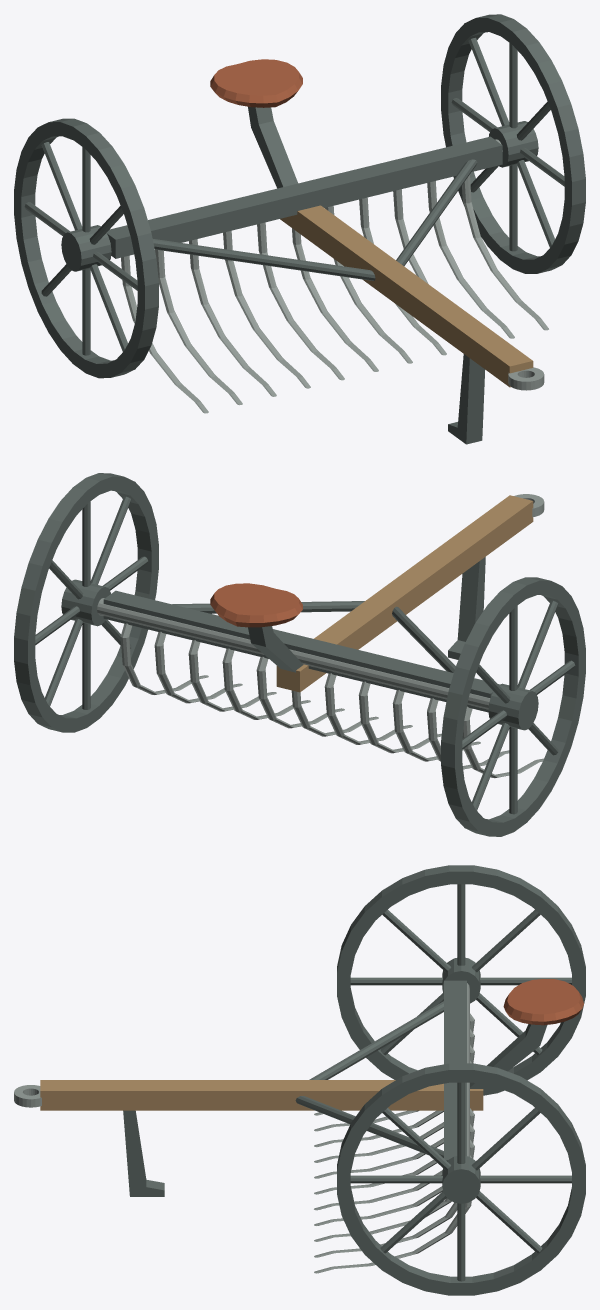
The picture shows the model from 3 angles, top to bottom: view 1: azimuth 30°, elevation 25°; view 2: azimuth 150°, elevation 25°; view 3: azimuth 270°, elevation 25°; orthographic projection. The views are drawn at different scales.
Parts seen in each view (by area): view 1: WholeHighOpenFiniteSoleWheelRim0, WholeWideTransverseCurvedToothBeam, WholeHighOpenFiniteSoleWheelRim1, WholeLongForwardTimberDrawBeam, WholeShallowCurvedPanSeat, WholeDiagonalWideAxleToTongueBrace0, WholeForwardRestingPropAndFoot, WholeRearwardCurvedSeatSupport, WholeLongWheelHub0, WholeDiagonalWideAxleToTongueBrace1, WholeLongSweptForwardBluntRakeTooth1, WholeLongSweptForwardBluntRakeTooth10 (+19 smaller); view 2: WholeHighOpenFiniteSoleWheelRim0, WholeHighOpenFiniteSoleWheelRim1, WholeLongForwardTimberDrawBeam, WholeWideTransverseCurvedToothBeam, WholeContinuousHighWheelAxle, WholeShallowCurvedPanSeat, WholeForwardRestingPropAndFoot, WholeLongWheelHub0, WholeLongWheelHub1, WholeRearwardCurvedSeatSupport, WholeDiagonalWideAxleToTongueBrace0, WholeDiagonalWideAxleToTongueBrace1 (+21 smaller); view 3: WholeHighOpenFiniteSoleWheelRim1, WholeLongForwardTimberDrawBeam, WholeHighOpenFiniteSoleWheelRim0, WholeWideTransverseCurvedToothBeam, WholeShallowCurvedPanSeat, WholeForwardRestingPropAndFoot, WholeDiagonalWideAxleToTongueBrace0, WholeLongWheelHub1, WholeRearwardCurvedSeatSupport, WholeDiagonalWideAxleToTongueBrace1, WholeLongWheelHub0, WholeStraightWheelSpoke0_4 (+16 smaller).
Boxes of the visible parts, x1=… form: WholeHighOpenFiniteSoleWheelRim0: x1=14, y1=118, x2=158, y2=378; WholeWideTransverseCurvedToothBeam: x1=106, y1=136, x2=502, y2=258; WholeHighOpenFiniteSoleWheelRim1: x1=441, y1=14, x2=585, y2=273; WholeLongForwardTimberDrawBeam: x1=280, y1=205, x2=533, y2=387; WholeShallowCurvedPanSeat: x1=210, y1=59, x2=302, y2=107; WholeDiagonalWideAxleToTongueBrace0: x1=152, y1=239, x2=375, y2=280; WholeForwardRestingPropAndFoot: x1=448, y1=354, x2=485, y2=444; WholeRearwardCurvedSeatSupport: x1=248, y1=106, x2=297, y2=188; WholeLongWheelHub0: x1=61, y1=225, x2=111, y2=271; WholeDiagonalWideAxleToTongueBrace1: x1=396, y1=159, x2=477, y2=266; WholeLongSweptForwardBluntRakeTooth1: x1=155, y1=249, x2=242, y2=405; WholeLongSweptForwardBluntRakeTooth10: x1=462, y1=174, x2=548, y2=330; WholeHighOpenFiniteSoleWheelRim0: x1=441, y1=577, x2=585, y2=836; WholeHighOpenFiniteSoleWheelRim1: x1=14, y1=473, x2=158, y2=732; WholeLongForwardTimberDrawBeam: x1=276, y1=495, x2=533, y2=692; WholeWideTransverseCurvedToothBeam: x1=103, y1=590, x2=499, y2=712; WholeContinuousHighWheelAxle: x1=97, y1=598, x2=490, y2=709; WholeShallowCurvedPanSeat: x1=210, y1=583, x2=302, y2=627; WholeForwardRestingPropAndFoot: x1=448, y1=557, x2=485, y2=659; WholeLongWheelHub0: x1=488, y1=683, x2=538, y2=730; WholeLongWheelHub1: x1=61, y1=579, x2=110, y2=626; WholeRearwardCurvedSeatSupport: x1=248, y1=626, x2=303, y2=672; WholeDiagonalWideAxleToTongueBrace0: x1=392, y1=606, x2=455, y2=672; WholeDiagonalWideAxleToTongueBrace1: x1=172, y1=601, x2=364, y2=613; WholeHighOpenFiniteSoleWheelRim1: x1=337, y1=1063, x2=585, y2=1295; WholeLongForwardTimberDrawBeam: x1=40, y1=1080, x2=483, y2=1110; WholeHighOpenFiniteSoleWheelRim0: x1=337, y1=865, x2=585, y2=1095; WholeWideTransverseCurvedToothBeam: x1=444, y1=980, x2=466, y2=1160; WholeShallowCurvedPanSeat: x1=503, y1=979, x2=583, y2=1025; WholeForwardRestingPropAndFoot: x1=123, y1=1110, x2=164, y2=1196; WholeDiagonalWideAxleToTongueBrace0: x1=309, y1=1001, x2=443, y2=1079; WholeLongWheelHub1: x1=442, y1=1156, x2=480, y2=1203; WholeRearwardCurvedSeatSupport: x1=470, y1=1024, x2=547, y2=1090; WholeDiagonalWideAxleToTongueBrace1: x1=295, y1=1096, x2=443, y2=1157; WholeLongWheelHub0: x1=442, y1=957, x2=480, y2=1003; WholeStraightWheelSpoke0_4: x1=350, y1=977, x2=442, y2=985.
Size of the model in its own units: 2.74 by 1.36 by 3.12.
